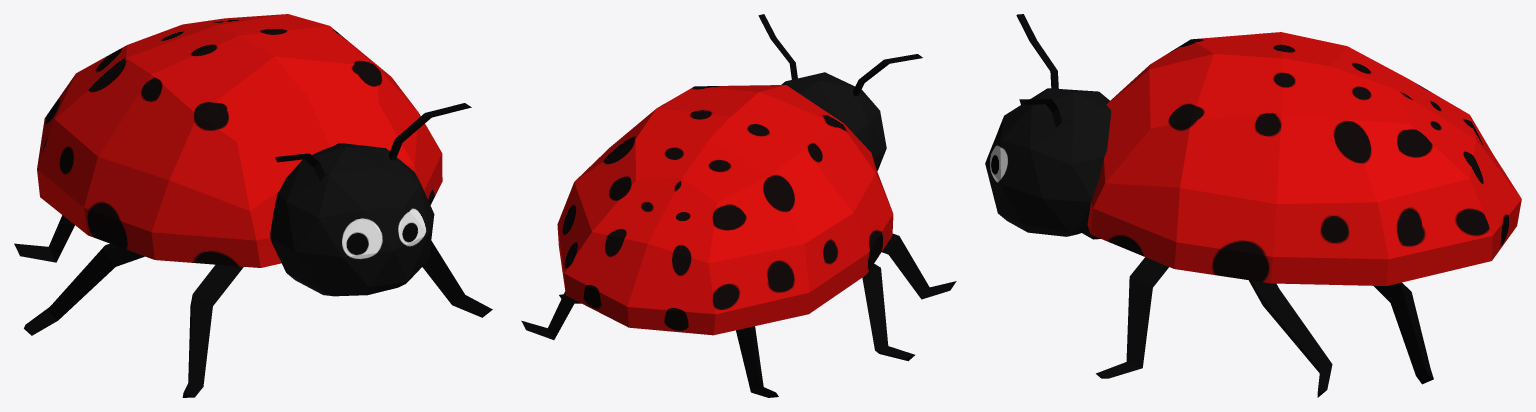
Rendered from 032820ladybugModel.gltf.
3 renders of one model, left to right at view 1: azimuth 30°, elevation 25°; view 2: azimuth 150°, elevation 25°; view 3: azimuth 270°, elevation 25°, orthographic. The views are drawn at different scales.
Visible parts, largest first — view 1: Cube, Icosphere, Cube.001, Cube.005, Cube.008, Cube.004, Cube.002, Cube.003; view 2: Cube, Icosphere, Cube.005, Cube.001, Cube.004, Cube.007, Cube.003, Cube.002; view 3: Cube, Icosphere, Cube.008, Cube.006, Cube.007, Cube.003.
Part boxes in pixels (<box>): Cube: <box>37,14,442,267</box>; Icosphere: <box>270,143,434,296</box>; Cube.001: <box>182,264,243,397</box>; Cube.005: <box>24,243,144,335</box>; Cube.008: <box>422,241,492,317</box>; Cube.004: <box>14,215,74,262</box>; Cube.002: <box>388,103,471,160</box>; Cube.003: <box>275,153,324,181</box>; Cube: <box>557,85,893,335</box>; Icosphere: <box>781,72,886,170</box>; Cube.005: <box>862,263,914,361</box>; Cube.001: <box>882,233,956,299</box>; Cube.004: <box>736,326,778,397</box>; Cube.007: <box>521,291,575,339</box>; Cube.003: <box>853,54,922,96</box>; Cube.002: <box>758,14,797,79</box>; Cube: <box>1087,32,1521,285</box>; Icosphere: <box>985,88,1111,236</box>; Cube.008: <box>1096,257,1168,378</box>; Cube.006: <box>1249,280,1332,397</box>; Cube.007: <box>1374,282,1433,384</box>; Cube.003: <box>1016,14,1058,88</box>.
Size of the model in its own units: 2.4 by 1.47 by 2.77.
Materials: 3 (3 with a texture image).
